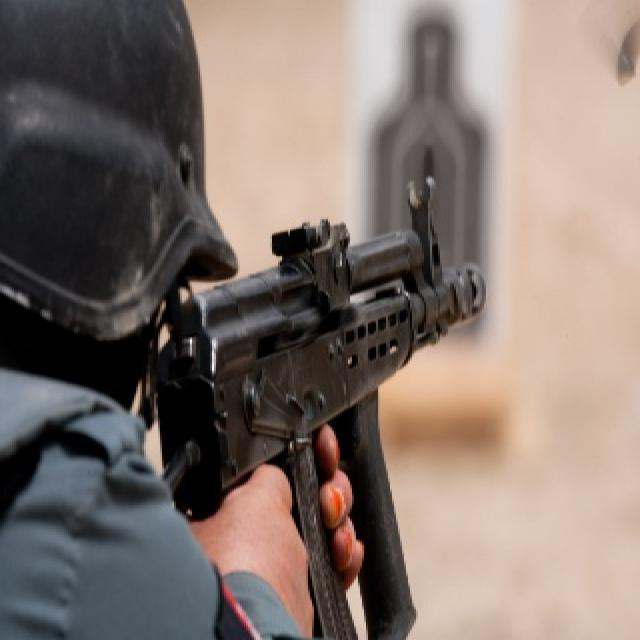weapon: (152, 174, 494, 638)
